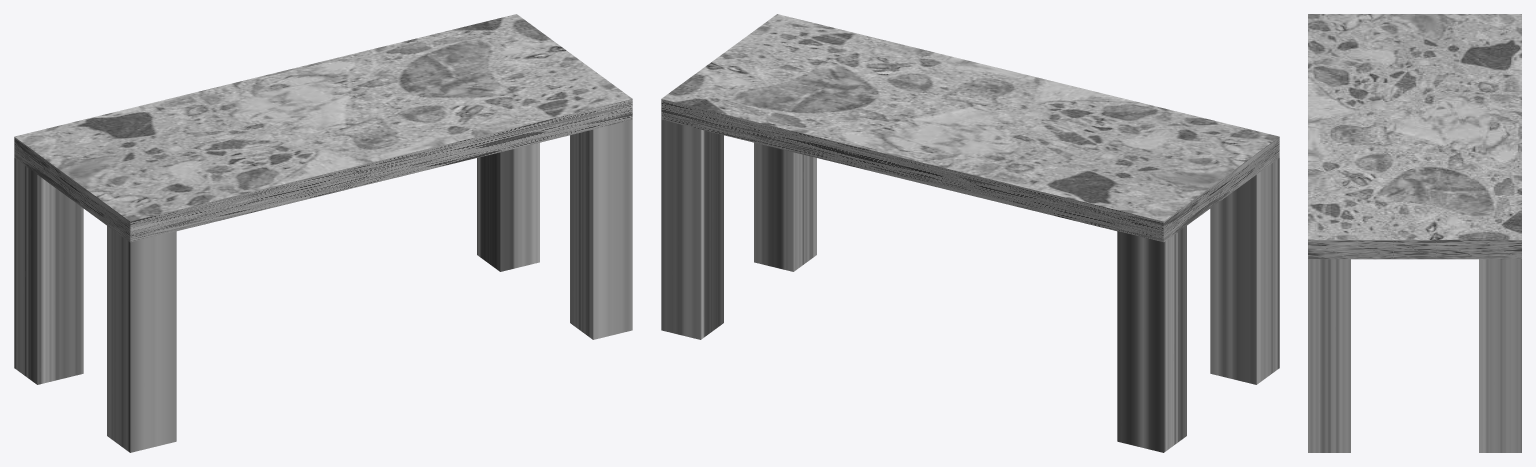
The model's file is Table.glb.
The picture shows the model from 3 angles, left to right: view 1: azimuth 30°, elevation 25°; view 2: azimuth 150°, elevation 25°; view 3: azimuth 270°, elevation 25°; orthographic projection. The views are drawn at different scales.
Visible parts, largest first — view 1: Cube; view 2: Cube; view 3: Cube.
Boxes of the visible parts, x1,y1,x2,y2 form: Cube: (14, 14, 632, 452); Cube: (661, 14, 1279, 452); Cube: (1308, 14, 1521, 452).
Bounding box in the file's own units: 5 × 2.2 × 2.
1 material, 1 textured.
